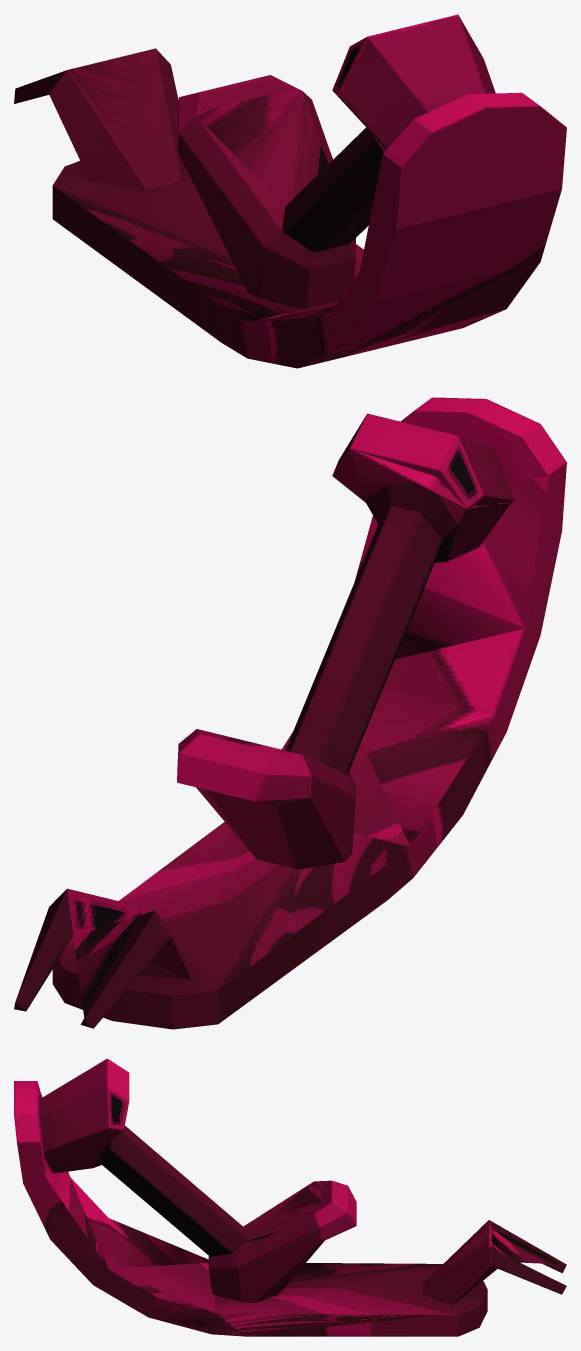
File: item_skishoe_3.glb
3 views of the same model, one above another, from view 1: azimuth 30°, elevation 25°; view 2: azimuth 150°, elevation 25°; view 3: azimuth 270°, elevation 25° (orthographic). The views are drawn at different scales.
Visible parts, largest first — view 1: SkiShoe; view 2: SkiShoe; view 3: SkiShoe.
Part boxes in pixels (x1,y1,x2,y2): SkiShoe: [14, 14, 566, 368]; SkiShoe: [14, 397, 566, 1029]; SkiShoe: [14, 1058, 566, 1336].
Size of the model in its own units: 0.1051 by 0.2285 by 0.4804.
Materials: 1 (1 with a texture image).
